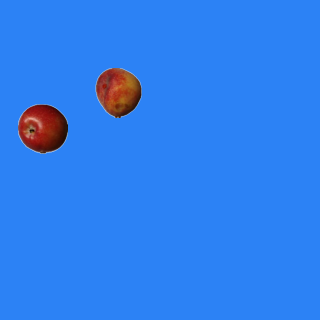Apple Braeburn: (17, 103, 67, 153)
Peach: (93, 67, 143, 117)
